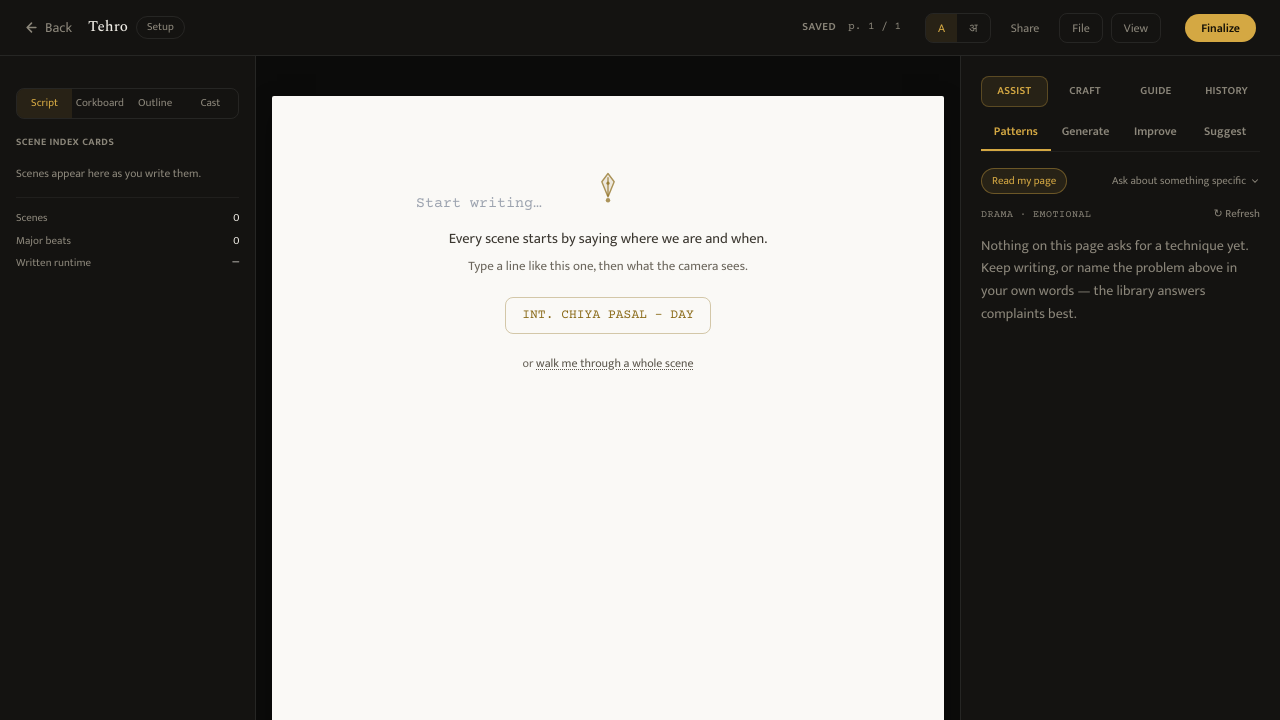
it: ScriptEditor › opens the shortcuts dropdown
The width and height of the screenshot is (1280, 720).
Click the button "View" at (1136,28), box [1111,12,1161,42]
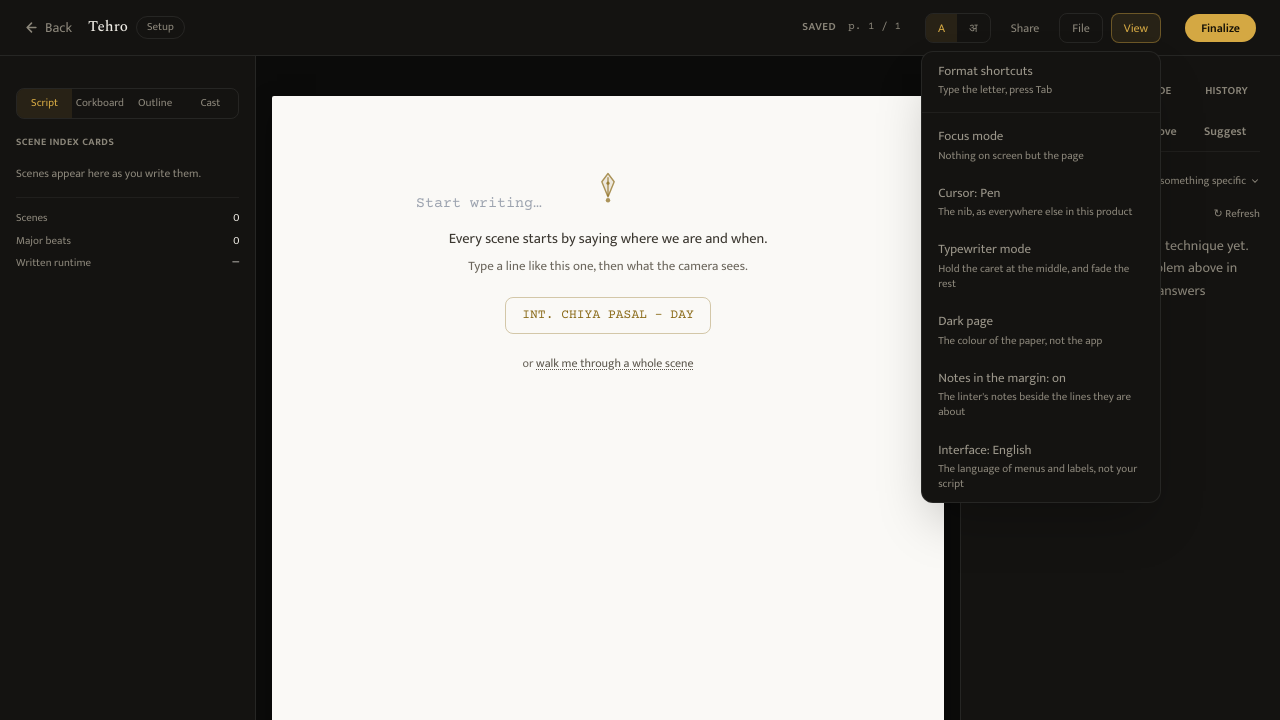
Click the menu item "Format shortcuts Type the letter, press Tab" at (1041,80), box [922,52,1160,108]
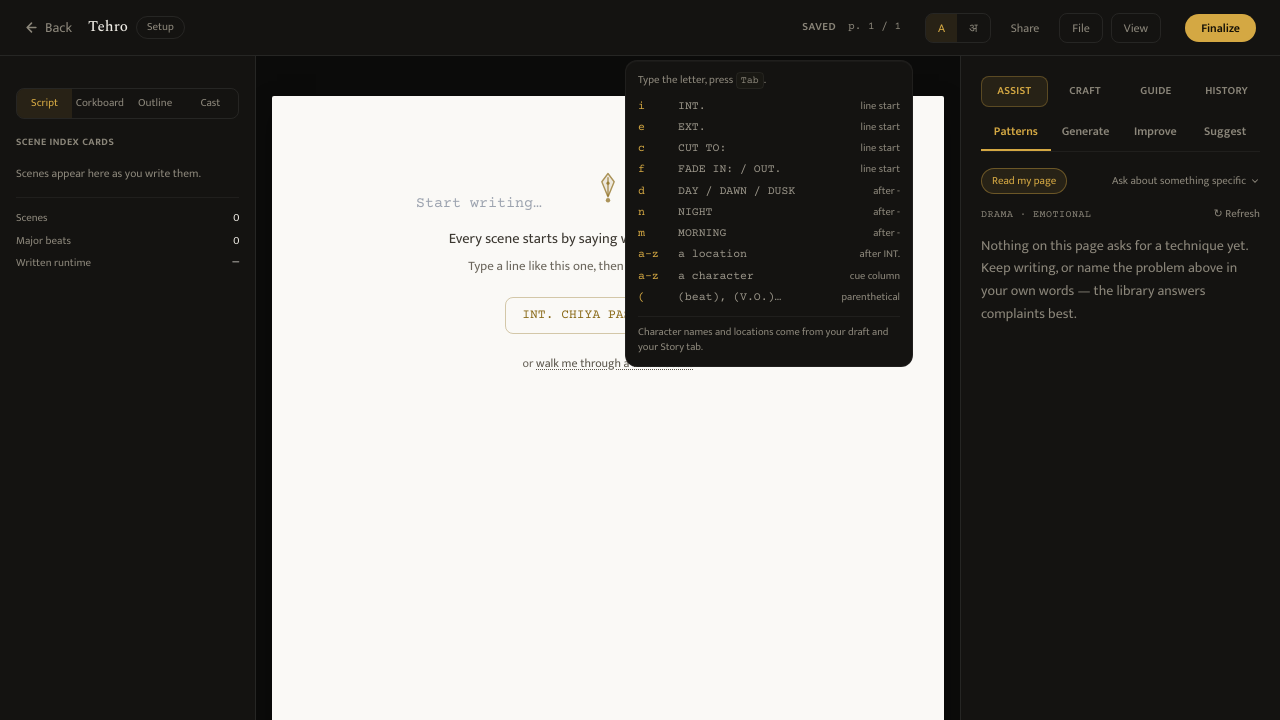
Expected: the text "Type the letter, press Tab." is shown, [638,70,766,88]
